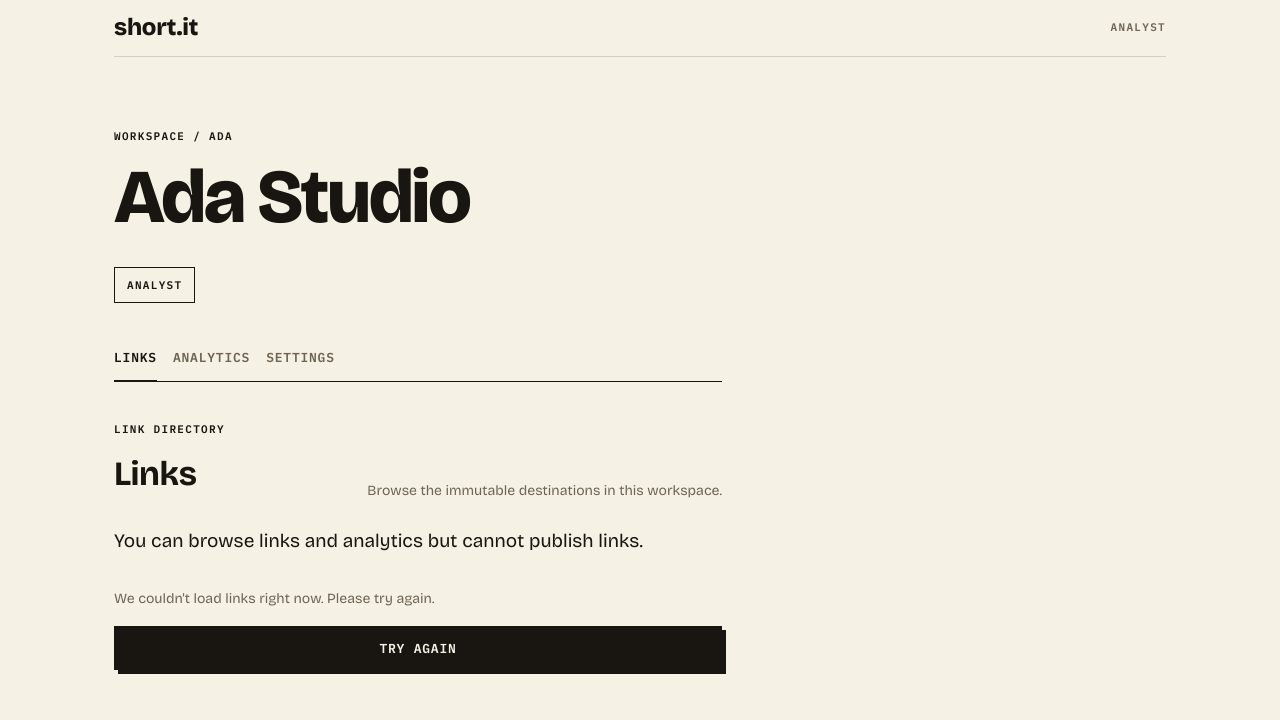
App › retries a failed link directory request
The width and height of the screenshot is (1280, 720).
expect the message shows "We couldn't load links right now.": met, box [114,590,434,607]
Click the button "Try again" at (418, 648), box [114,626,722,670]
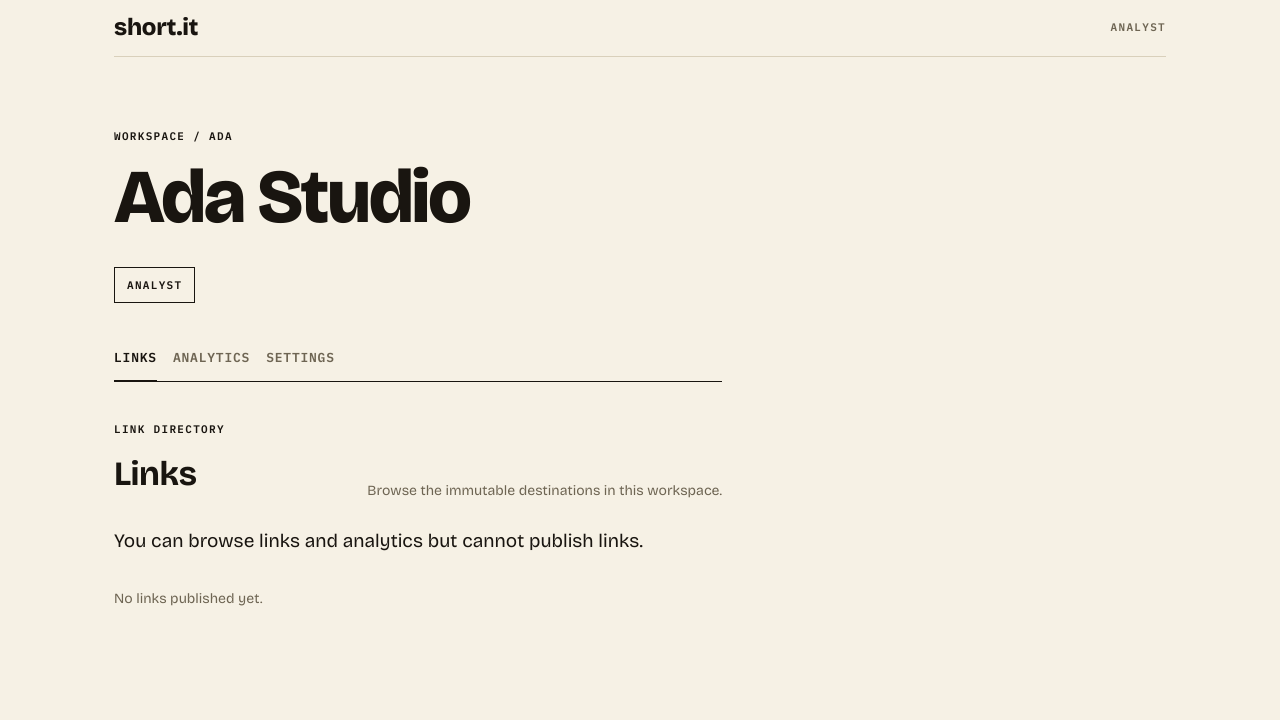
expect the text "No links published yet." is shown: met, box [114,590,262,607]
